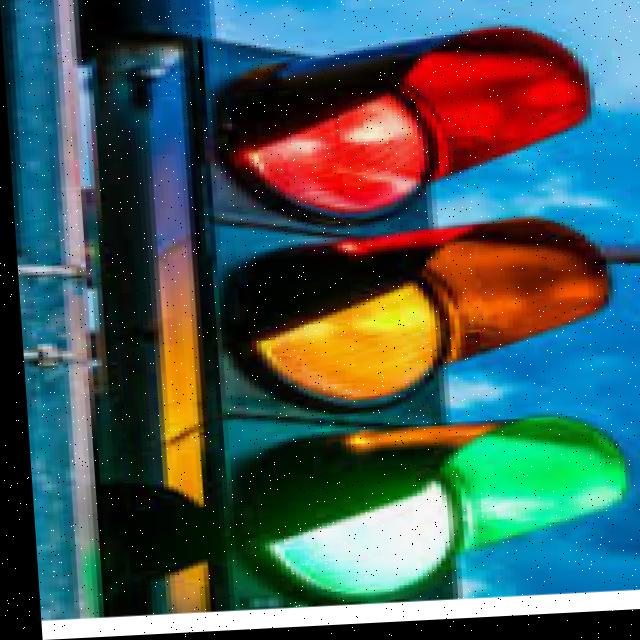light_traffic: (74, 0, 640, 623)
